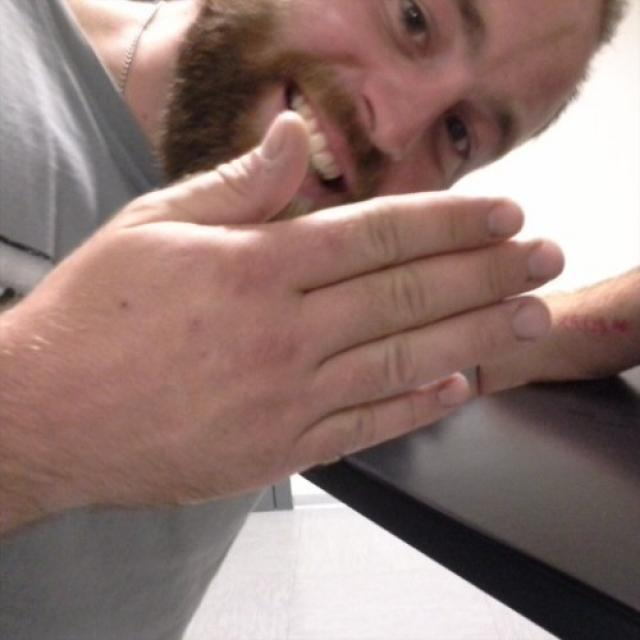paper: (63, 114, 564, 499)
